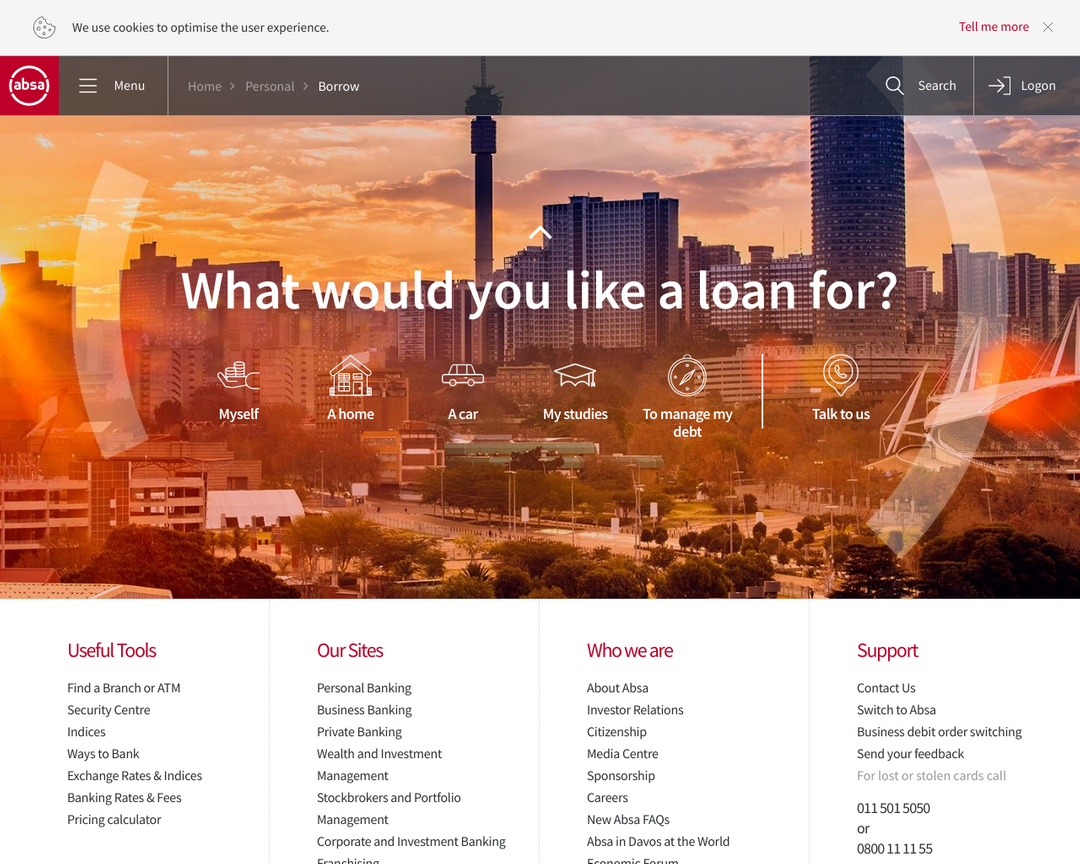ABSA: (5, 66, 52, 107)
